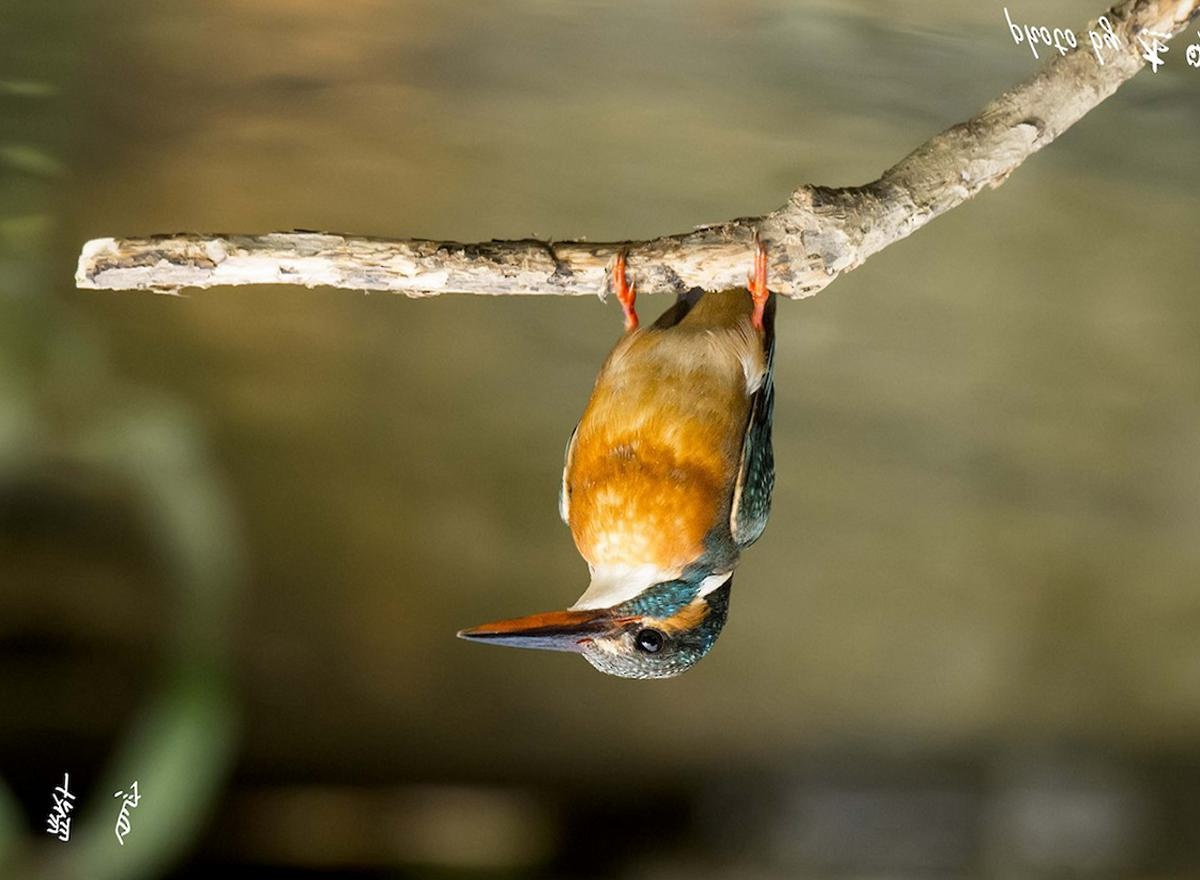kingfisher: (443, 244, 792, 726)
